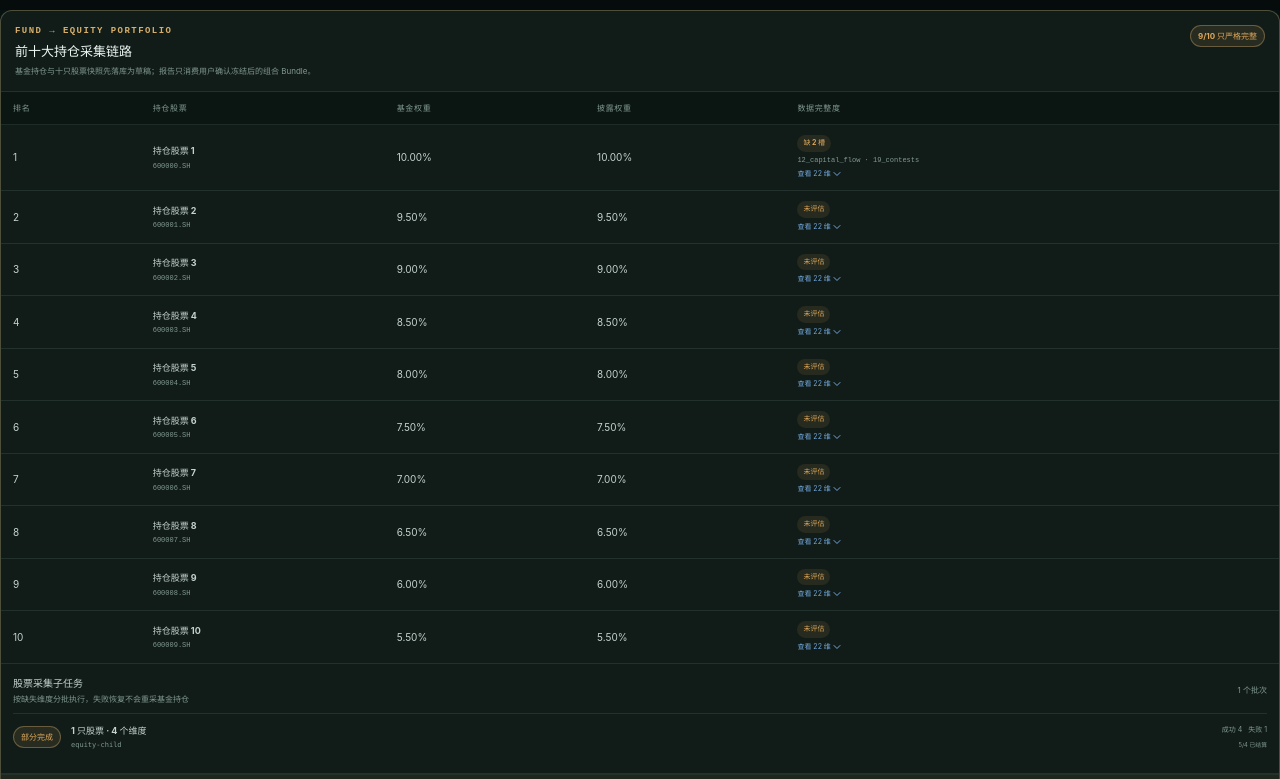
Test: FundCollectionOverview › distinguishes partial, verified-empty, retryable and unavailable historical outcomes
Click the button "查看 22 维" below "12_capital_flow · 19_contests": (820, 174) [797, 168, 843, 180]
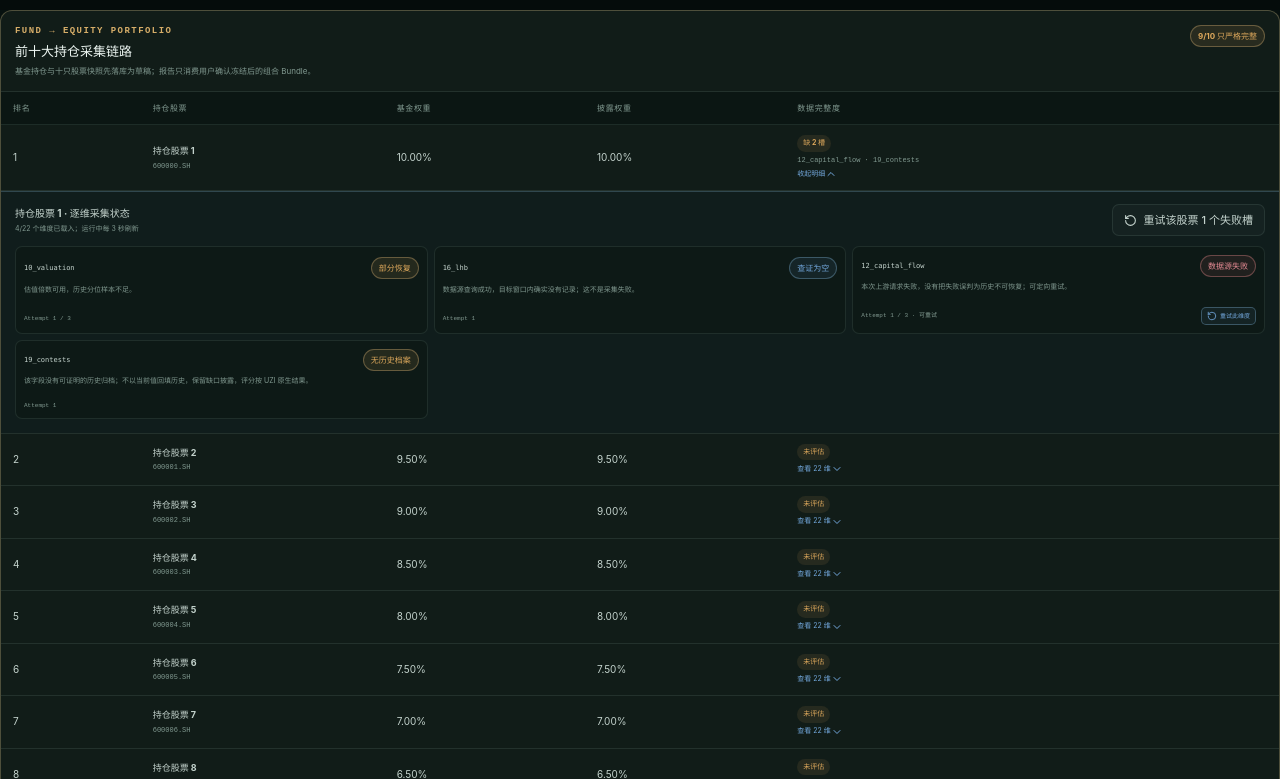
Expected: the text "部分恢复" is shown, [371, 257, 419, 279]
Expected: the text "估值倍数可用，历史分位样本不足。" is shown, [24, 285, 136, 294]
Expected: the text "查证为空" is shown, [789, 257, 837, 279]
